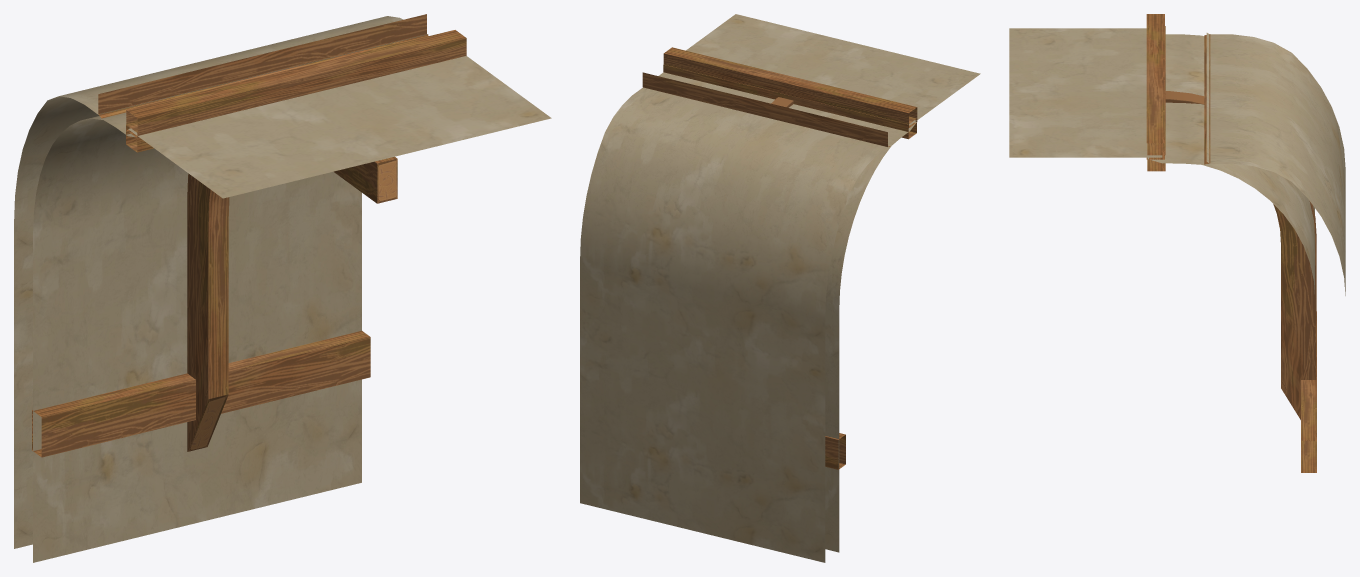
Rendered from Overhang_Plaster_Long.gltf.
The picture shows the model from 3 angles, left to right: view 1: azimuth 30°, elevation 25°; view 2: azimuth 150°, elevation 25°; view 3: azimuth 270°, elevation 25°; orthographic projection. The views are drawn at different scales.
Parts seen in each view (by area): view 1: Overhang_Plaster_Long; view 2: Overhang_Plaster_Long; view 3: Overhang_Plaster_Long.
Part boxes in pixels (x1,y1,x2,y2): Overhang_Plaster_Long: [14, 14, 551, 562]; Overhang_Plaster_Long: [580, 14, 980, 562]; Overhang_Plaster_Long: [1009, 14, 1345, 472].
Size of the model in its own units: 2 by 3.03 by 2.2.
Materials: 2 (2 with a texture image).
